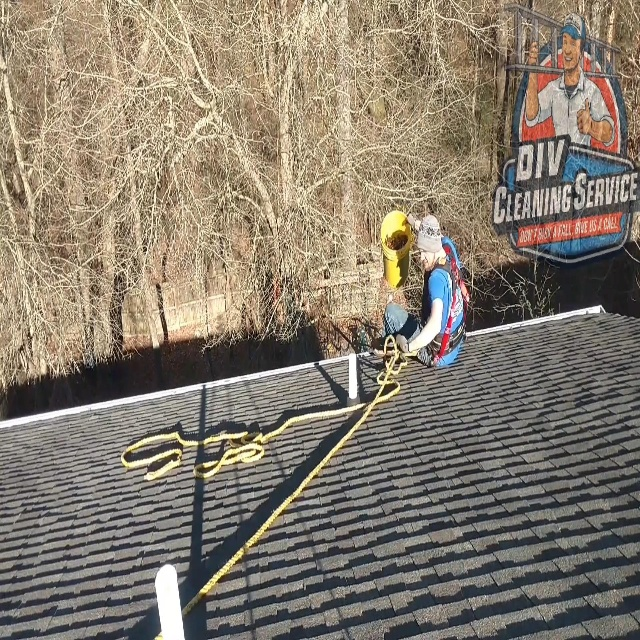Arnes_seguridad: (427, 239, 471, 372)
